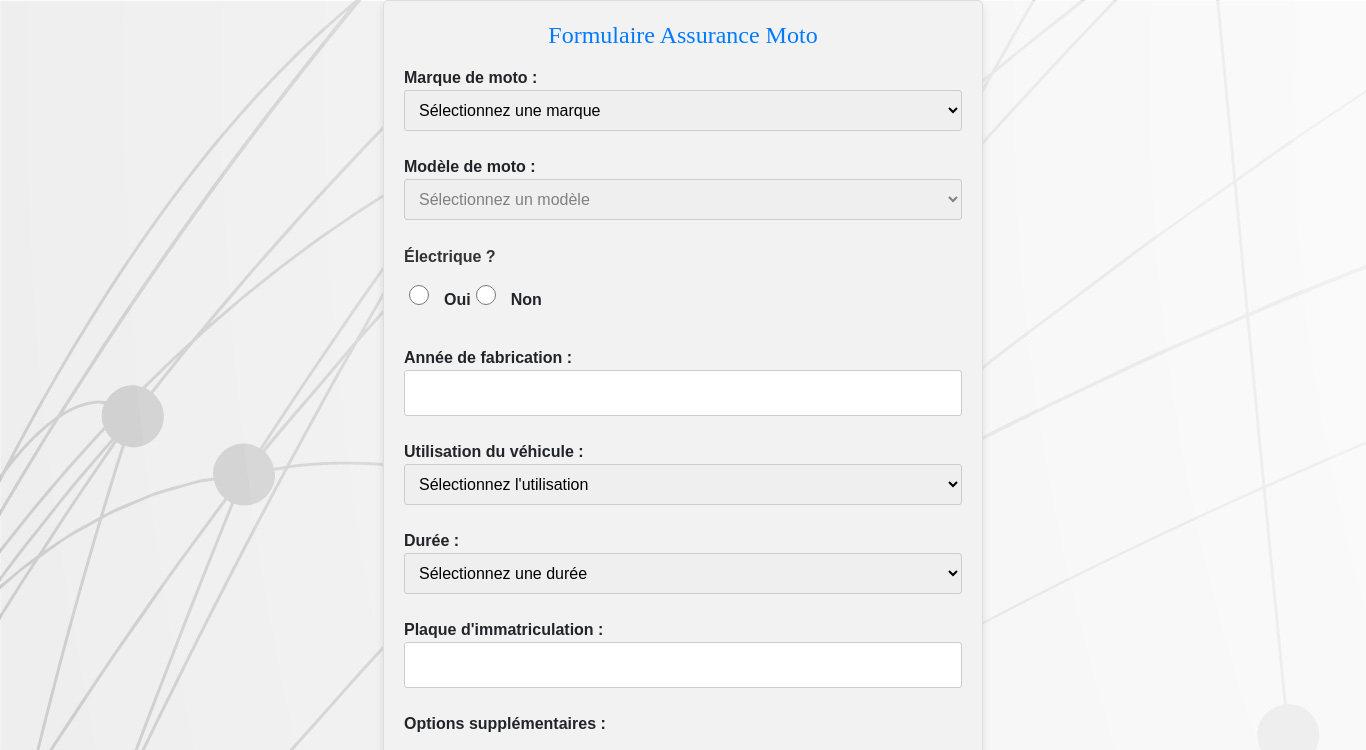
Test: AssuranceMotoForm Component › updates models when a marque is selected
Sélectionner une marque
Select "Yamaha" in the dropdown labelled "Marque de moto :": (683, 110) [404,90,962,131]
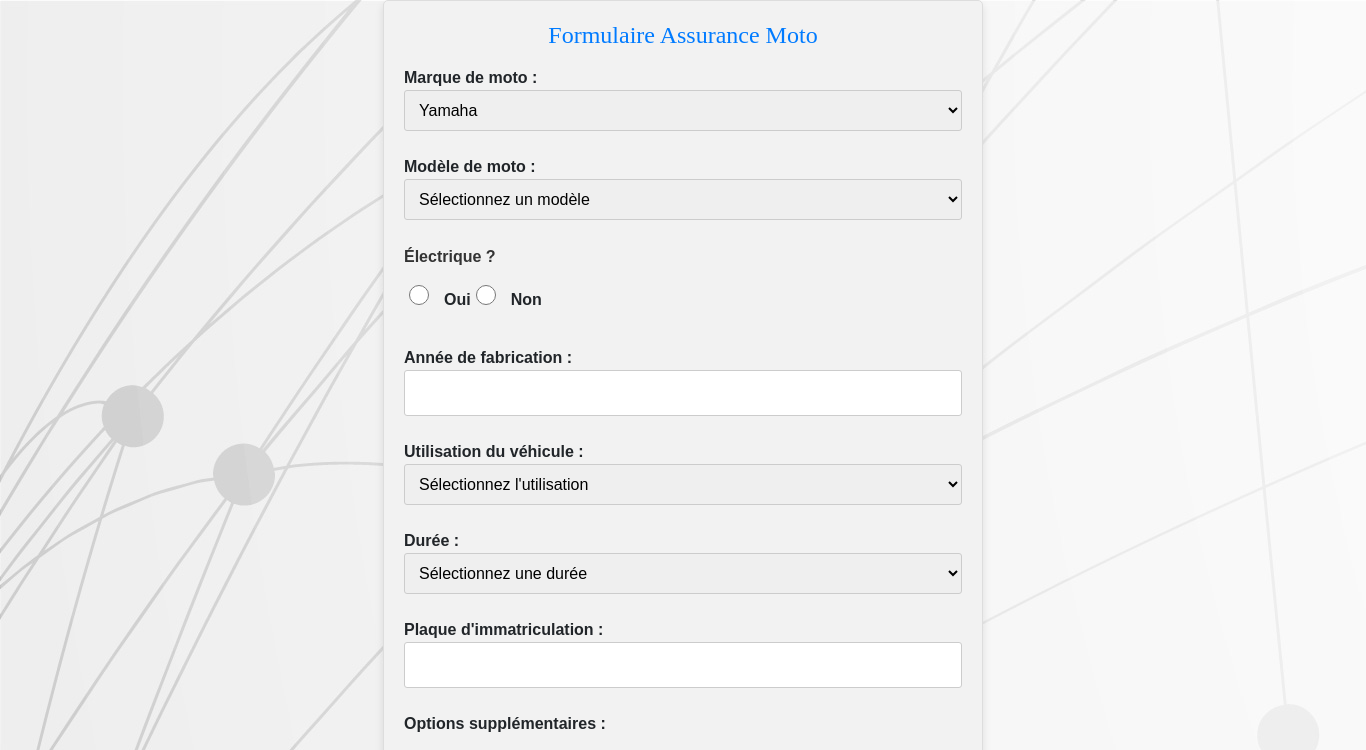
Expected: the dropdown labelled "Modèle de moto :" is enabled, [404,179,962,220]
